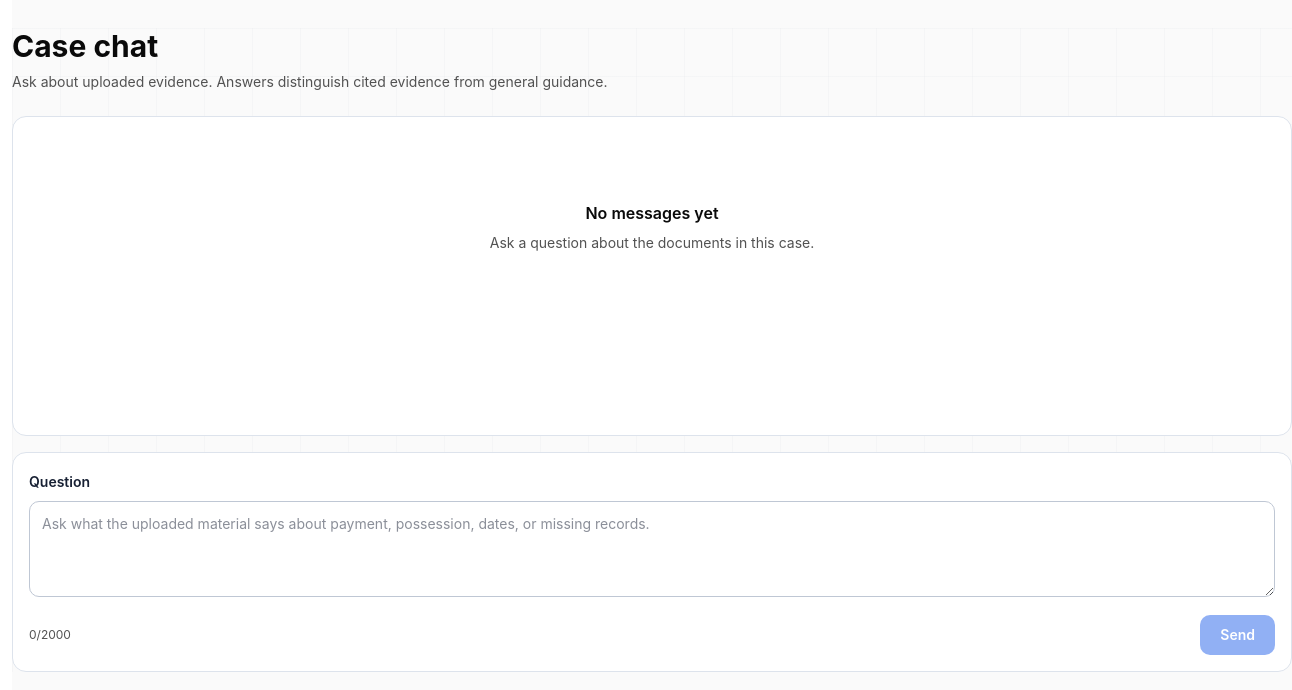
Test: Stage 5 case chat › restores the failed question and removes the temporary message
This screenshot has width=1292, height=690.
Replace the text in the text box labelled "Question" with "Retry this question" at point(652, 549), box [29,501,1275,597]
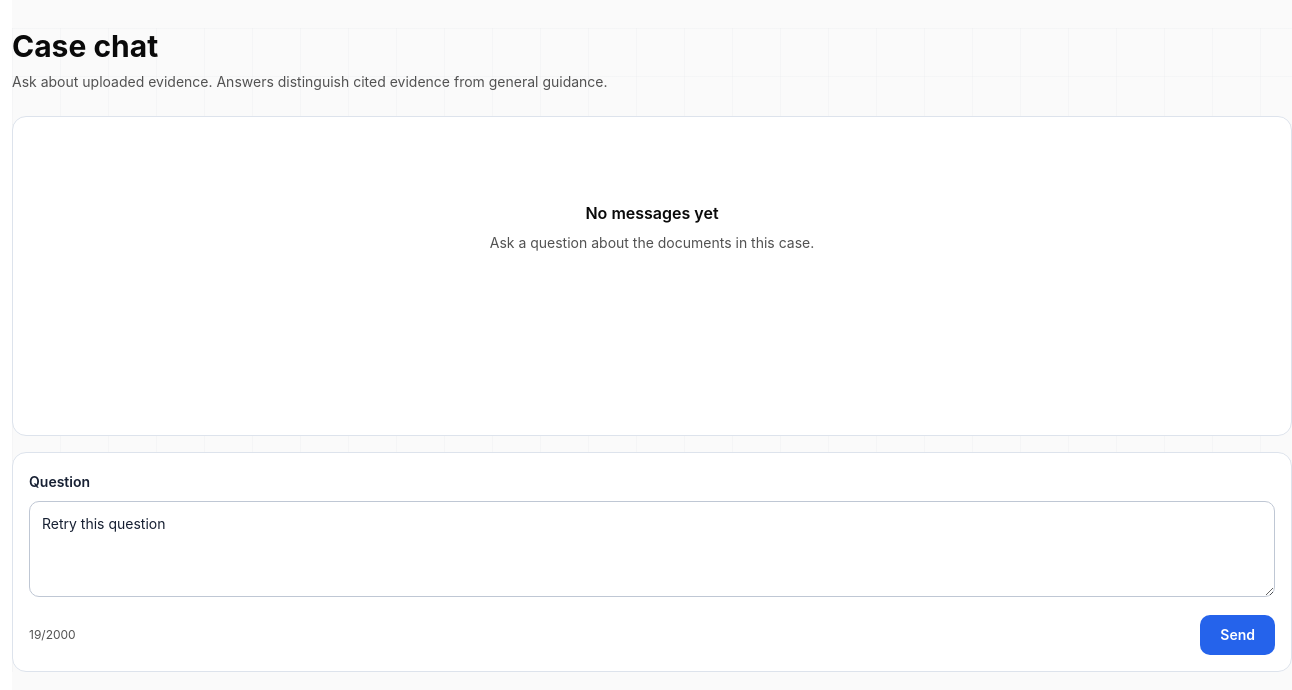
Click the button "Send".
click(1238, 635)  # box [1200,615,1275,655]
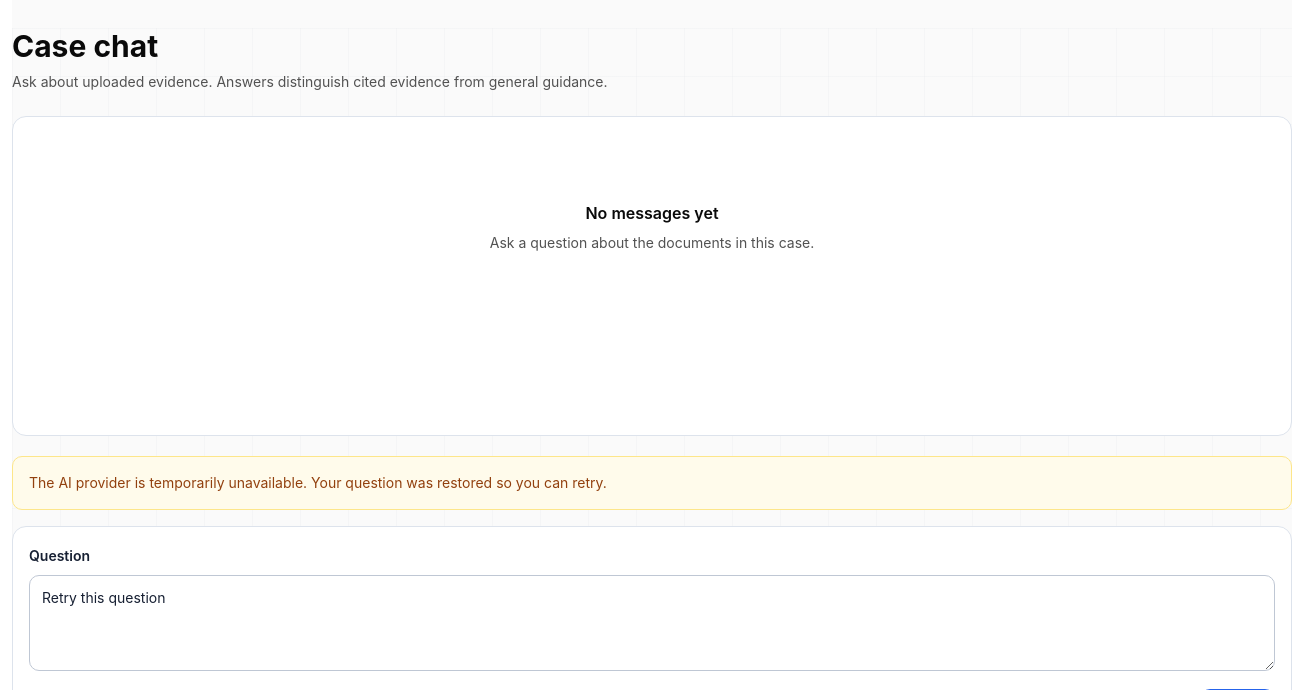
Check: the text "Your question was restored" is shown, box [307,474,607,491]
